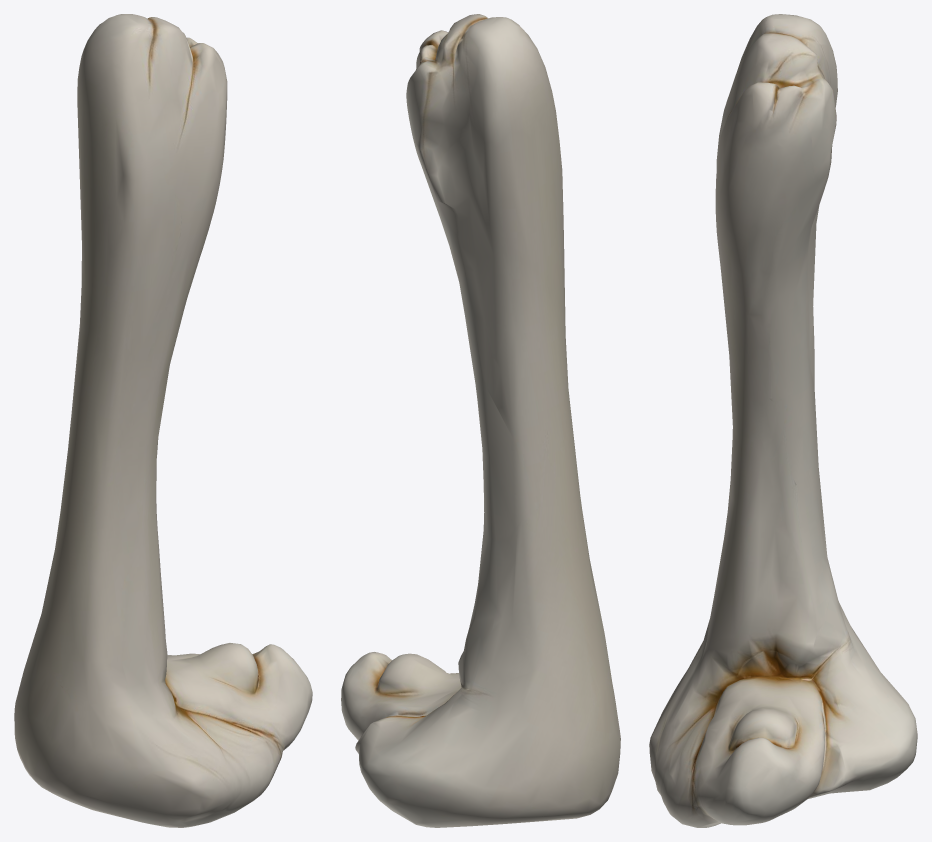
File: phalanx-proximal.glb
3 views of the same model, side by side, from view 1: azimuth 30°, elevation 25°; view 2: azimuth 150°, elevation 25°; view 3: azimuth 270°, elevation 25° (orthographic). The views are drawn at different scales.
Parts seen in each view (by area): view 1: phalanx-proximal; view 2: phalanx-proximal; view 3: phalanx-proximal.
Boxes of the visible parts, x1,y1,x2,y2 form: phalanx-proximal: (14,14,312,827); phalanx-proximal: (341,14,620,827); phalanx-proximal: (649,14,917,827).
Bounding box in the file's own units: 0.3562 × 1 × 0.309.
Materials: 1 (1 with a texture image).
